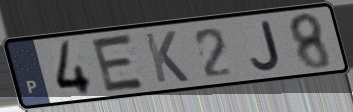2: (194, 26, 235, 80)
4: (53, 38, 94, 98)
8: (286, 11, 333, 71)
E: (89, 32, 149, 95)
J: (248, 19, 283, 73)
K: (141, 30, 192, 85)
